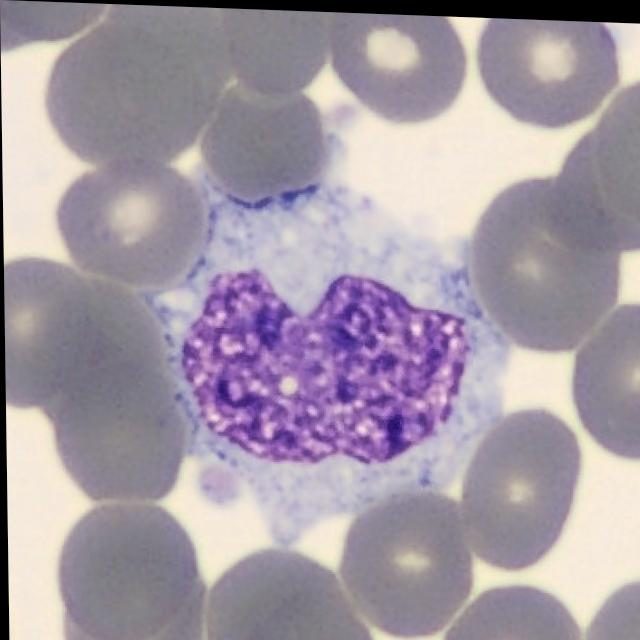Monocito: (148, 177, 508, 542)
